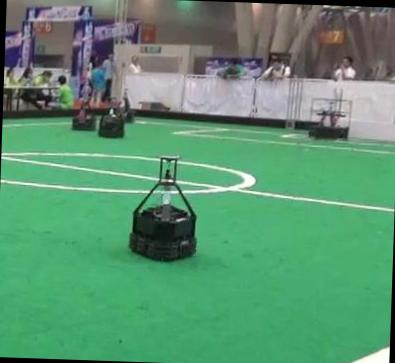robot: (129, 155, 196, 259), (309, 98, 352, 138), (98, 98, 124, 136), (71, 99, 96, 129), (122, 90, 134, 121)
